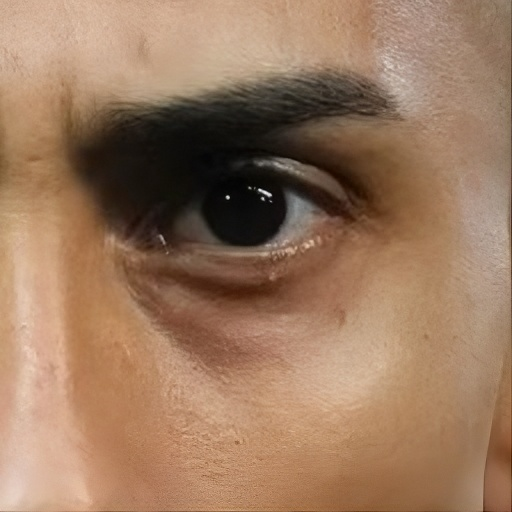iris: (200, 179, 289, 249)
pupil: (220, 185, 275, 232)
sclera: (243, 189, 333, 253), (173, 197, 222, 245)
